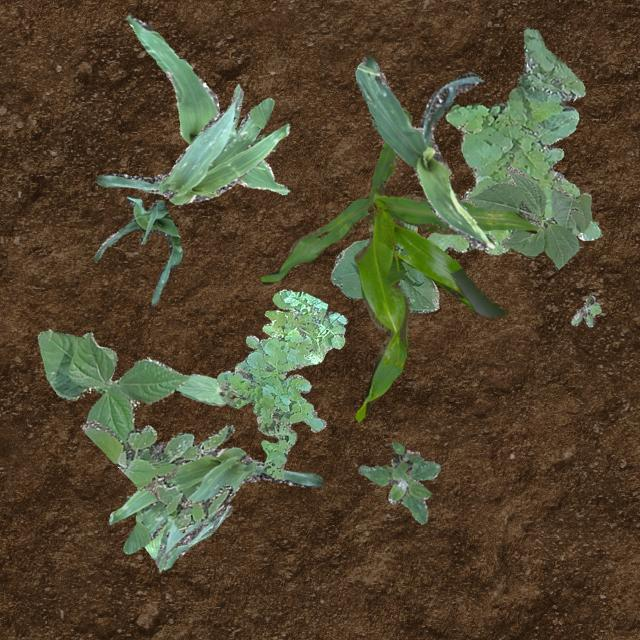crop: (260, 107, 536, 420), (124, 13, 288, 194), (354, 55, 494, 248), (108, 444, 322, 570), (95, 84, 288, 204), (36, 328, 186, 442), (462, 166, 590, 270), (330, 220, 438, 312), (94, 194, 182, 306), (134, 504, 232, 568), (174, 362, 240, 404)
weed: (426, 27, 600, 254), (215, 288, 346, 478), (80, 418, 234, 532), (358, 440, 440, 522), (570, 292, 600, 326)
